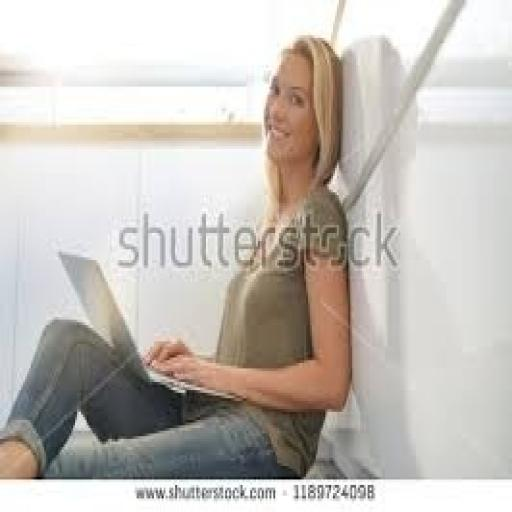using_laptop: (56, 246, 242, 401)
